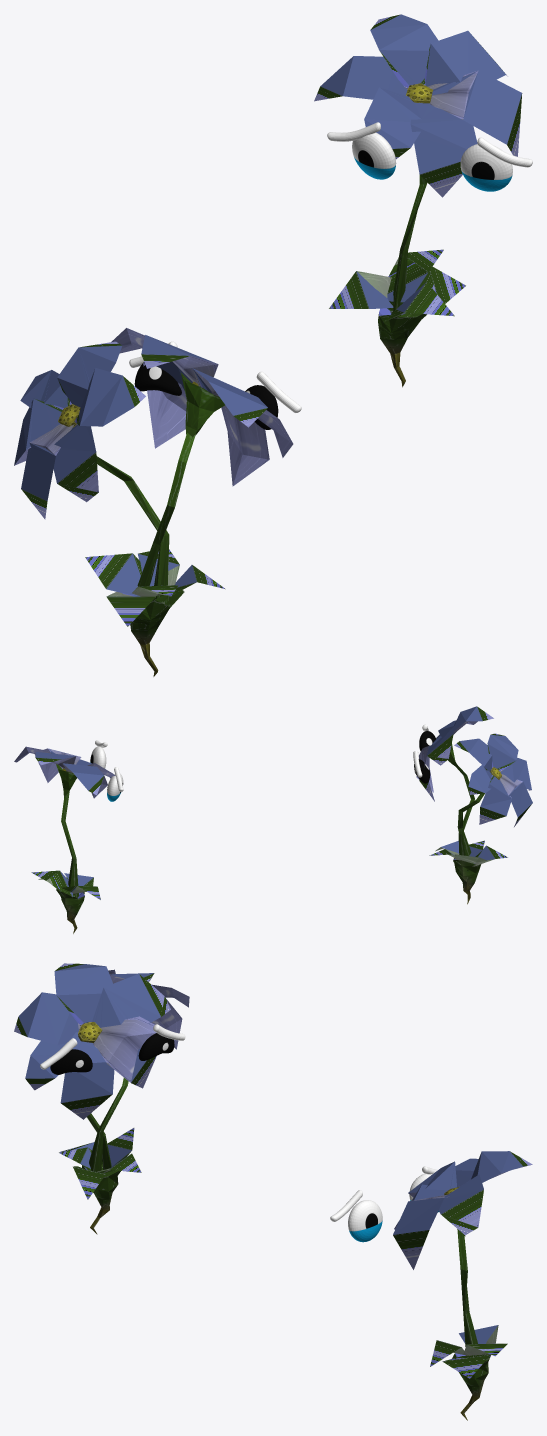
The model's file is flowers.glb.
3 views of the same model, one above another, from view 1: azimuth 30°, elevation 25°; view 2: azimuth 150°, elevation 25°; view 3: azimuth 270°, elevation 25° (orthographic). The views are drawn at different scales.
Bounding box in the file's own units: 1.64 × 0.7604 × 1.33.
4 materials, 4 textured.
